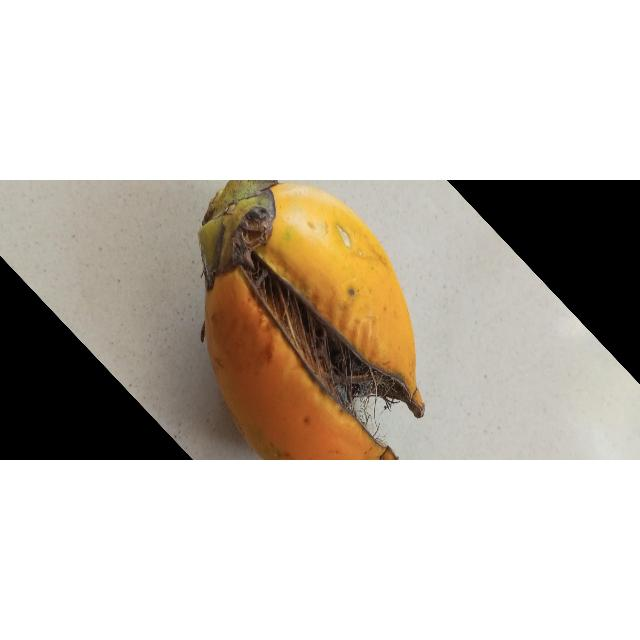damaged: (200, 180, 425, 461)
